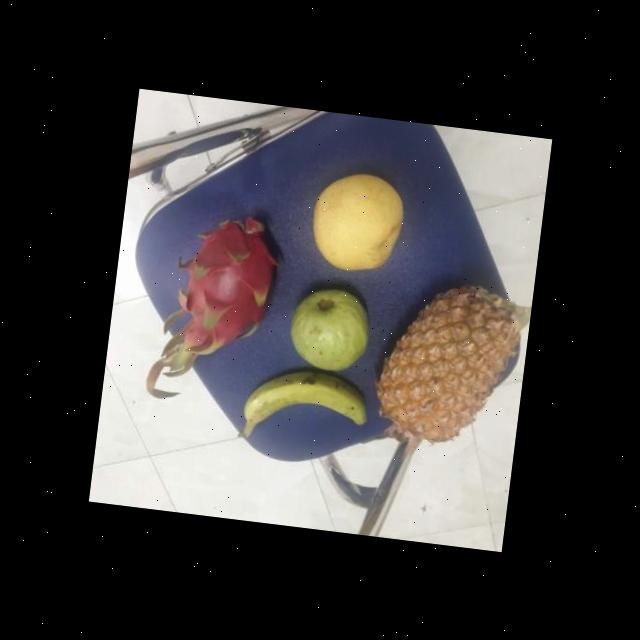banana: (246, 362, 376, 444)
guava: (287, 286, 377, 372)
pear: (304, 168, 412, 278)
pineapple: (376, 274, 524, 447)
pitaya: (168, 210, 288, 363)
